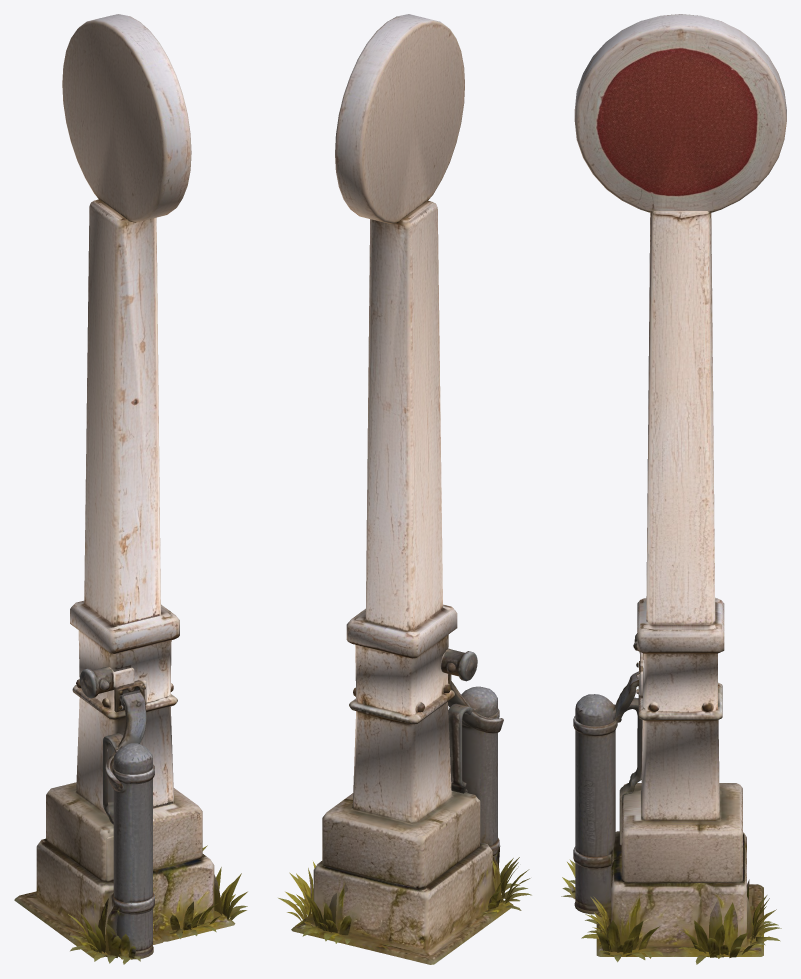
File: finish_post.glb
3 views of the same model, side by side, from view 1: azimuth 30°, elevation 25°; view 2: azimuth 150°, elevation 25°; view 3: azimuth 270°, elevation 25° (orthographic).
Parts seen in each view (by area): view 1: tripo_node_c3f66034-a443-44e1-ac12-bc4a9a617bb9; view 2: tripo_node_c3f66034-a443-44e1-ac12-bc4a9a617bb9; view 3: tripo_node_c3f66034-a443-44e1-ac12-bc4a9a617bb9.
Part boxes in pixels (left/top/right/bottom): tripo_node_c3f66034-a443-44e1-ac12-bc4a9a617bb9: left=14, top=14, right=247, bottom=964; tripo_node_c3f66034-a443-44e1-ac12-bc4a9a617bb9: left=278, top=14, right=531, bottom=964; tripo_node_c3f66034-a443-44e1-ac12-bc4a9a617bb9: left=561, top=14, right=786, bottom=964.
Bounding box in the file's own units: 0.2212 × 0.9995 × 0.2261.
1 material, 1 textured.
